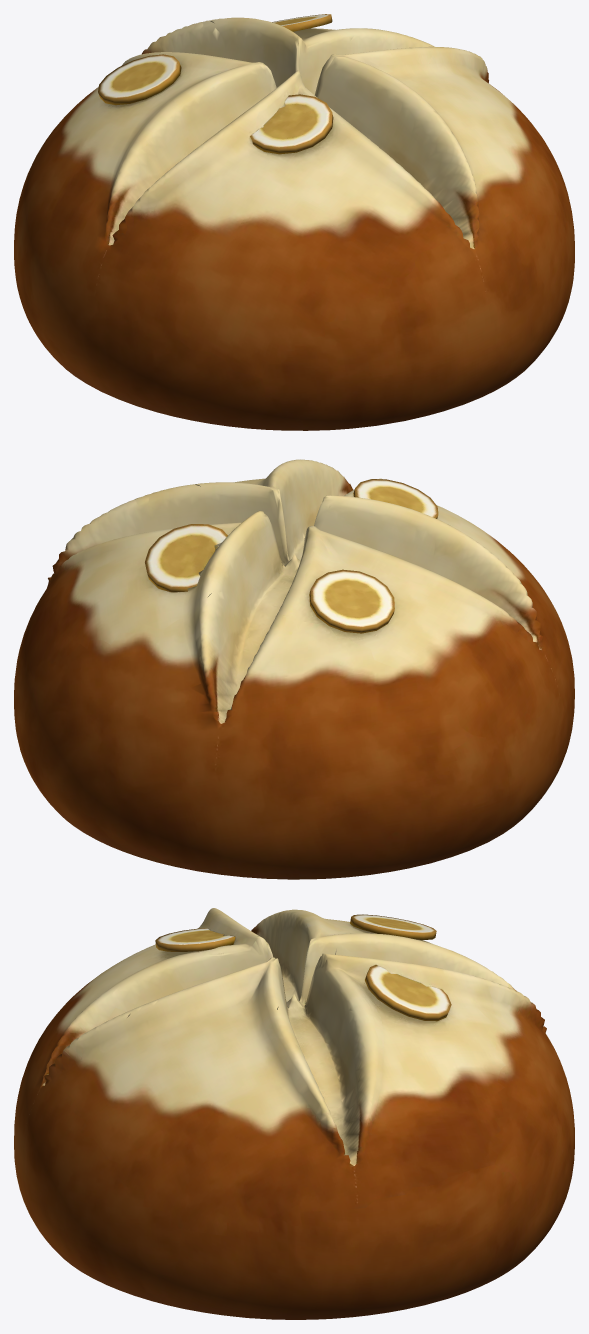
File: campagne--lemon-slice.glb
3 views of the same model, one above another, from view 1: azimuth 30°, elevation 25°; view 2: azimuth 150°, elevation 25°; view 3: azimuth 270°, elevation 25° (orthographic).
Visible parts, largest first — view 1: campagne_lemon-slice; view 2: campagne_lemon-slice; view 3: campagne_lemon-slice.
Boxes of the visible parts, x1,y1,x2,y2 form: campagne_lemon-slice: (14,14,574,430); campagne_lemon-slice: (14,459,574,879); campagne_lemon-slice: (14,908,574,1319).
Bounding box in the file's own units: 0.9987 × 0.5303 × 0.9991.
1 material, 1 textured.
